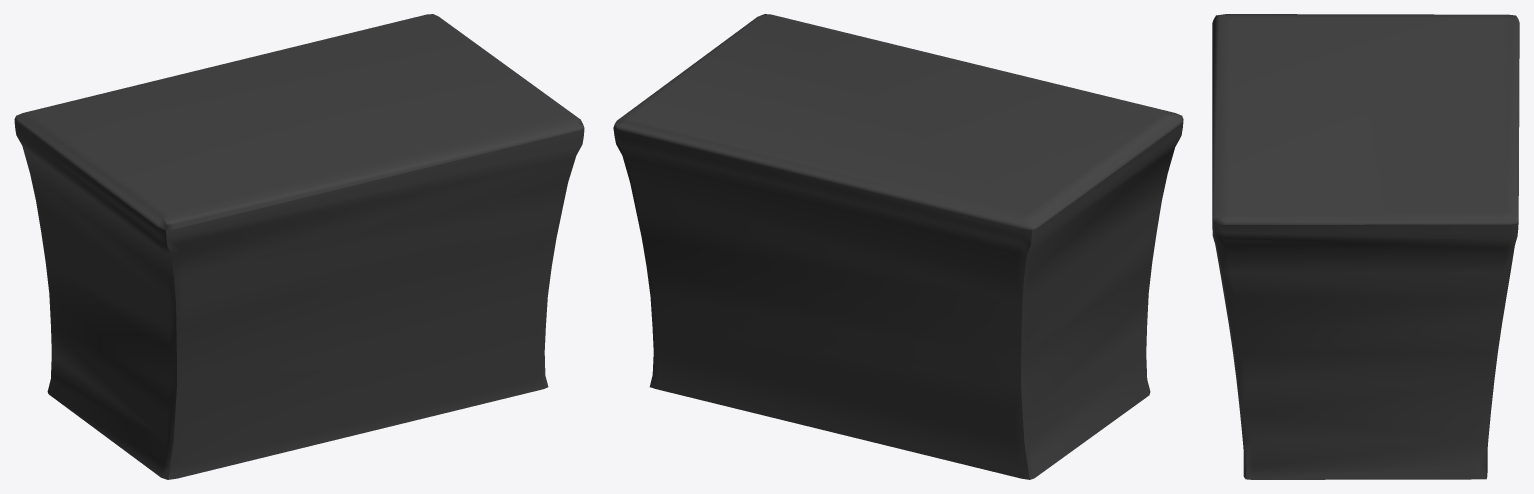
Rendered from multi-4ft-4-30.glb.
The picture shows the model from 3 angles, left to right: view 1: azimuth 30°, elevation 25°; view 2: azimuth 150°, elevation 25°; view 3: azimuth 270°, elevation 25°; orthographic projection.
Parts seen in each view (by area): view 1: geometry_0; view 2: geometry_0; view 3: geometry_0.
Part boxes in pixels (x1,y1,x2,y2): geometry_0: [14, 14, 584, 479]; geometry_0: [613, 14, 1183, 479]; geometry_0: [1212, 14, 1519, 479].
Bounding box in the file's own units: 1.27 × 0.7812 × 0.7954.
1 material, 1 textured.
